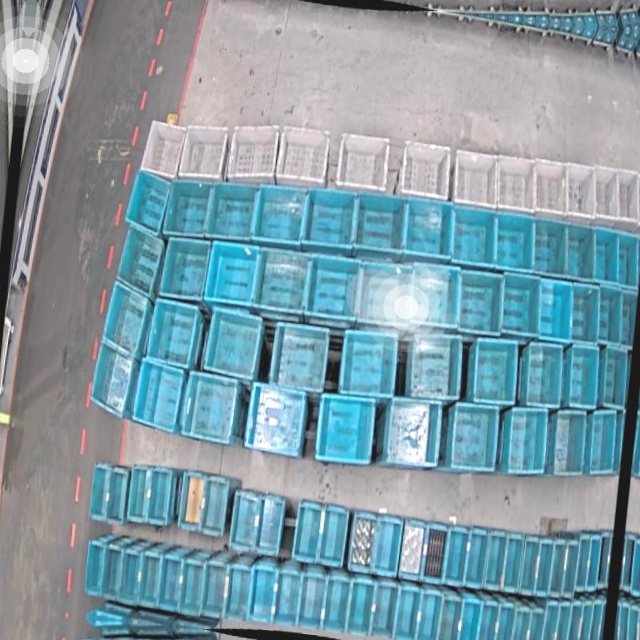Box: (335, 325, 399, 401), (312, 392, 376, 467), (202, 307, 264, 382), (244, 385, 307, 458), (266, 322, 329, 394), (180, 371, 239, 446), (142, 296, 201, 370), (127, 359, 185, 434), (95, 281, 151, 357), (112, 222, 167, 299), (252, 246, 311, 317), (86, 345, 140, 421), (202, 238, 259, 309), (406, 331, 461, 404), (306, 252, 364, 321), (384, 396, 438, 470), (157, 233, 212, 304), (354, 259, 411, 327), (225, 121, 282, 189), (276, 122, 333, 189), (335, 129, 392, 195), (407, 263, 463, 330), (448, 402, 500, 474), (299, 185, 356, 250), (351, 191, 407, 256), (253, 182, 309, 246), (471, 336, 522, 406), (399, 140, 454, 204), (205, 178, 259, 243), (402, 196, 456, 261), (162, 174, 214, 240), (122, 168, 172, 236), (505, 407, 553, 477), (446, 203, 498, 267), (176, 122, 228, 186), (450, 149, 501, 214), (456, 270, 506, 335), (138, 118, 188, 183), (498, 272, 543, 339), (520, 341, 564, 409), (490, 211, 537, 274), (492, 155, 539, 217), (529, 159, 573, 220), (533, 279, 574, 342), (549, 410, 587, 476), (528, 216, 569, 277), (563, 344, 600, 409), (561, 221, 599, 281), (585, 410, 619, 477), (562, 163, 600, 222), (566, 283, 601, 344), (230, 491, 263, 553), (318, 504, 350, 567), (596, 346, 628, 409), (197, 474, 229, 537), (590, 225, 624, 284), (372, 515, 404, 577), (291, 500, 323, 562), (175, 468, 206, 531), (348, 511, 378, 574), (590, 167, 623, 224), (254, 496, 285, 556), (143, 468, 175, 526), (594, 286, 625, 345), (272, 567, 302, 627), (296, 573, 326, 630), (398, 518, 426, 579), (200, 562, 229, 620), (223, 564, 252, 621), (248, 565, 277, 622), (323, 575, 351, 634), (347, 580, 375, 638), (156, 555, 184, 612), (442, 525, 468, 586), (177, 560, 205, 616), (612, 170, 640, 226), (421, 526, 448, 584), (371, 581, 398, 638), (463, 528, 488, 589), (484, 530, 509, 591), (393, 587, 421, 640), (136, 554, 162, 610), (614, 232, 640, 287), (105, 468, 130, 525), (501, 534, 524, 594), (99, 545, 123, 602), (518, 536, 541, 595), (118, 552, 142, 605), (83, 540, 105, 597), (89, 464, 110, 523), (417, 591, 442, 640), (535, 538, 555, 597), (547, 539, 567, 598), (437, 595, 462, 640), (457, 597, 483, 640), (561, 540, 579, 600), (581, 535, 600, 591), (575, 535, 592, 594), (596, 531, 612, 591), (477, 602, 501, 640), (586, 534, 602, 591), (492, 603, 516, 640), (508, 604, 530, 640), (538, 602, 558, 640), (553, 600, 572, 640), (587, 600, 605, 640), (566, 600, 583, 640), (525, 608, 546, 640), (577, 600, 593, 640)
